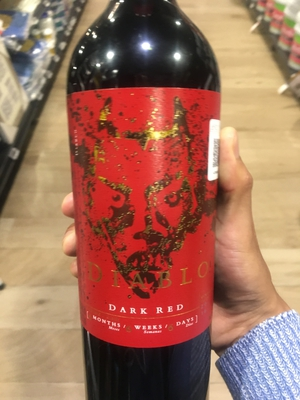diablo dark red: (63, 15, 229, 390)
